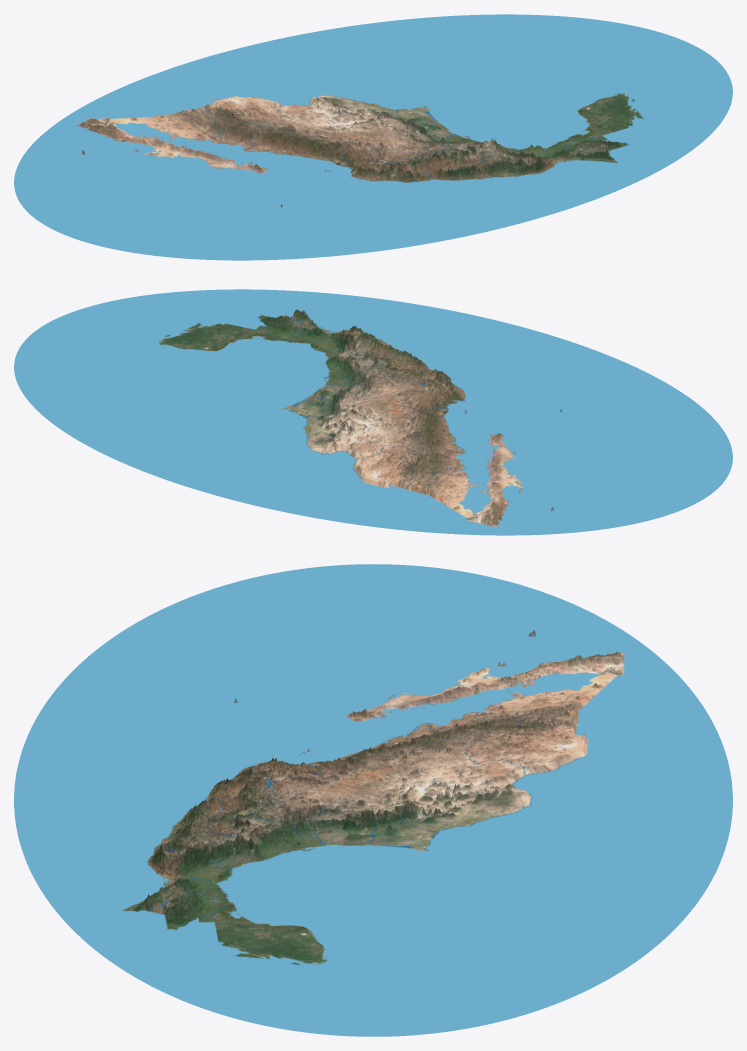
File: MEX-previa-terrain.glb
The picture shows the model from 3 angles, top to bottom: view 1: azimuth 30°, elevation 25°; view 2: azimuth 150°, elevation 25°; view 3: azimuth 270°, elevation 25°; orthographic projection. The views are drawn at different scales.
Parts seen in each view (by area): view 1: México; view 2: México; view 3: México.
Part boxes in pixels (x1,y1,x2,y2): México: (14, 14, 732, 260); México: (14, 289, 732, 535); México: (14, 564, 732, 1036).
Bounding box in the file's own units: 2.47 × 0.0566 × 1.59.
Materials: 1 (1 with a texture image).
